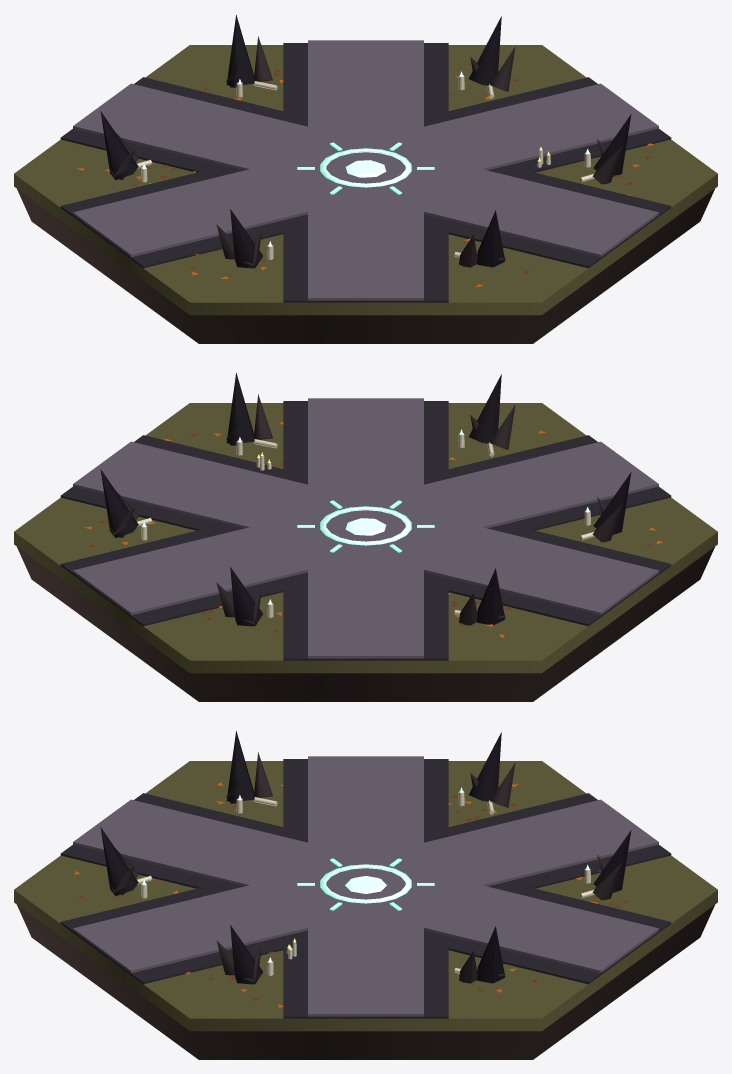
The model's file is landmark_boss.glb.
The picture shows the model from 3 angles, top to bottom: view 1: azimuth 30°, elevation 25°; view 2: azimuth 150°, elevation 25°; view 3: azimuth 270°, elevation 25°; orthographic projection.
Visible parts, largest first — view 1: road, ground, ground_soil, deco_spikes_0, deco_spikes_1, deco_spikes_3, deco_spikes_4, deco_spikes_2, deco_spikes_5, road_surface_hub, core_ring, core_heart; view 2: road, ground, ground_soil, deco_spikes_4, deco_spikes_5, deco_spikes_1, deco_spikes_2, deco_spikes_0, deco_spikes_3, road_surface_hub, core_ring, core_heart; view 3: road, ground, ground_soil, deco_spikes_2, deco_spikes_3, deco_spikes_5, deco_spikes_0, deco_spikes_4, deco_spikes_1, core_ring, core_heart.
Part boxes in pixels (x1,y1,x2,y2): road: (60, 40, 671, 302); ground: (14, 45, 717, 315); ground_soil: (17, 189, 714, 343); deco_spikes_0: (468, 16, 515, 91); deco_spikes_1: (226, 15, 272, 87); deco_spikes_3: (216, 209, 262, 268); deco_spikes_4: (459, 210, 505, 267); deco_spikes_2: (100, 111, 138, 179); deco_spikes_5: (592, 114, 631, 184); road_surface_hub: (309, 145, 423, 192); core_ring: (320, 148, 411, 187); core_heart: (345, 160, 386, 177); road: (60, 398, 671, 660); ground: (14, 403, 717, 673); ground_soil: (17, 547, 714, 701); deco_spikes_4: (468, 374, 515, 449); deco_spikes_5: (226, 373, 272, 445); deco_spikes_1: (216, 567, 262, 626); deco_spikes_2: (459, 568, 505, 625); deco_spikes_0: (100, 469, 138, 537); deco_spikes_3: (592, 472, 631, 542); road_surface_hub: (308, 503, 422, 550); core_ring: (320, 506, 411, 545); core_heart: (345, 518, 386, 535); road: (60, 756, 671, 1018); ground: (14, 761, 717, 1031); ground_soil: (17, 905, 714, 1059); deco_spikes_2: (468, 732, 515, 807); deco_spikes_3: (226, 731, 272, 803); deco_spikes_5: (216, 925, 262, 984); deco_spikes_0: (459, 926, 505, 983); deco_spikes_4: (100, 827, 138, 895); deco_spikes_1: (592, 830, 631, 900); core_ring: (320, 864, 411, 903); core_heart: (345, 876, 386, 893).
Size of the model in its own units: 1.73 by 0.3434 by 2.
